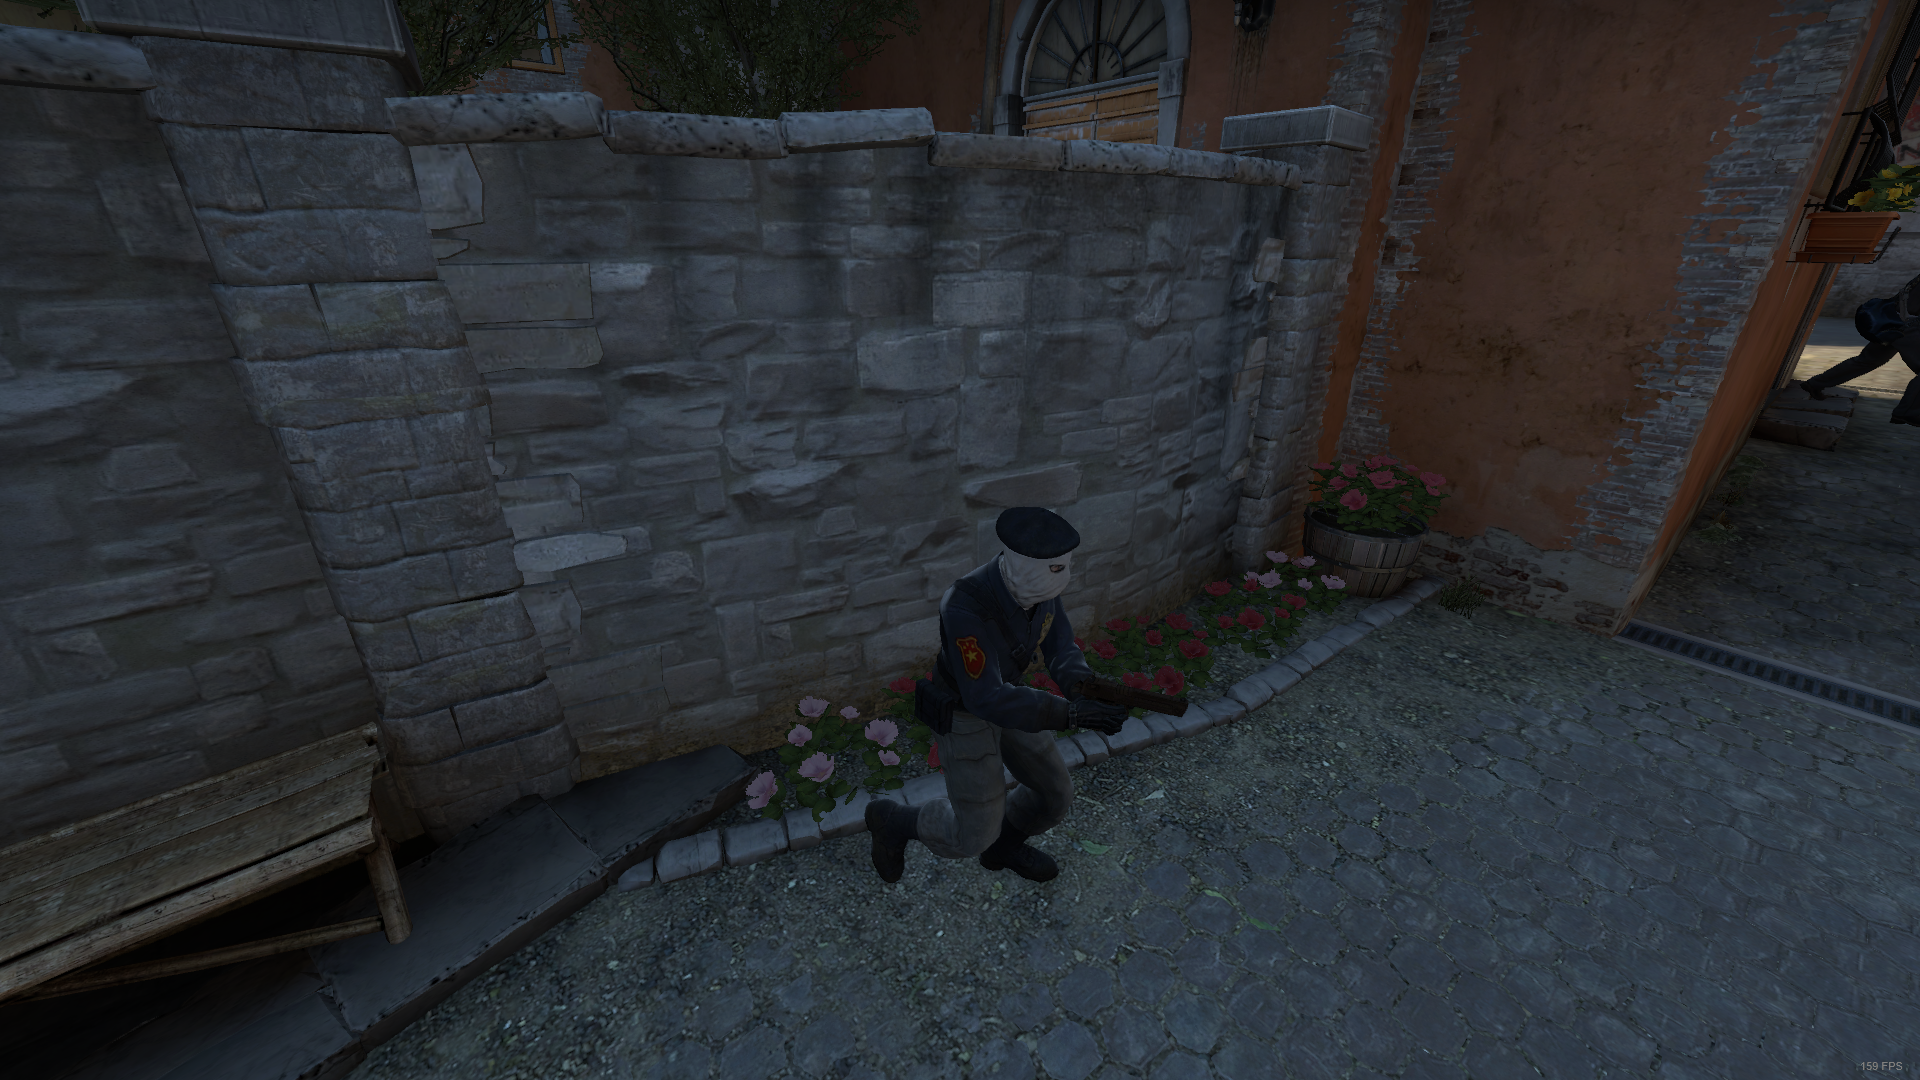t: (845, 497, 1146, 923)
